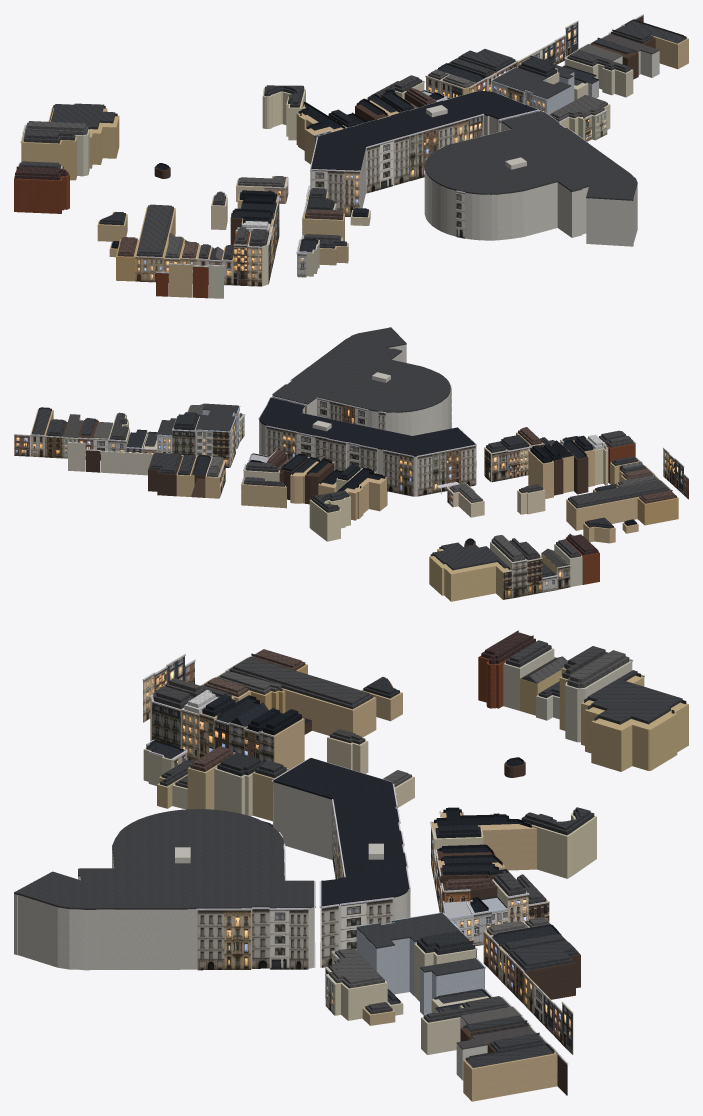
3 views of the same model, one above another, from view 1: azimuth 30°, elevation 25°; view 2: azimuth 150°, elevation 25°; view 3: azimuth 270°, elevation 25° (orthographic). The views are drawn at different scales.
Parts seen in each view (by area): view 1: bldg_503715125_roof, bldg_503715125, bldg_1000503715125_roof, bldg_1000503715125_facade13, bldg_501575301, bldg_1000503715125_facade10, bldg_501575305, bldg_503715134, bldg_1000503715125_facade12, bldg_501575307, bldg_503729218_roof, bldg_503729223 (+25 smaller); view 2: bldg_503715125_roof, bldg_1000503715125_roof, bldg_501575307, bldg_1000503715125_facade9, bldg_503715125, bldg_503750553, bldg_503715134, bldg_501575307_roof_b, bldg_1000503715125_facade8, bldg_503715133, bldg_503713430_facade0, bldg_503750553_roof_b (+30 smaller); view 3: bldg_503715125_roof, bldg_503715125, bldg_1000503715125_roof, bldg_501575307, bldg_1000503715125, bldg_503715125_facade8, bldg_503729228, bldg_501575307_roof_b, bldg_503715134, bldg_503750553, bldg_503715125_facade10, bldg_503729218 (+30 smaller).
Part boxes in pixels (<box>): bldg_503715125_roof: <box>425,111,637,200</box>; bldg_503715125: <box>424,122,637,246</box>; bldg_1000503715125_roof: <box>311,91,537,170</box>; bldg_1000503715125_facade13: <box>392,113,484,185</box>; bldg_501575301: <box>14,170,69,213</box>; bldg_1000503715125_facade10: <box>310,169,360,216</box>; bldg_501575305: <box>22,135,76,180</box>; bldg_503715134: <box>262,88,305,140</box>; bldg_1000503715125_facade12: <box>366,139,393,193</box>; bldg_501575307: <box>48,107,119,168</box>; bldg_503729218_roof: <box>492,67,571,99</box>; bldg_503729223: <box>565,58,633,97</box>; bldg_503715125_roof: <box>273,327,450,412</box>; bldg_1000503715125_roof: <box>259,397,475,456</box>; bldg_501575307: <box>429,549,510,601</box>; bldg_1000503715125_facade9: <box>416,444,476,496</box>; bldg_503715125: <box>306,344,450,435</box>; bldg_503750553: <box>566,496,640,530</box>; bldg_503715134: <box>309,496,350,541</box>; bldg_501575307_roof_b: <box>432,542,507,570</box>; bldg_1000503715125_facade8: <box>382,449,413,496</box>; bldg_503715133: <box>344,473,386,520</box>; bldg_503713430_facade0: <box>100,450,152,475</box>; bldg_503750553_roof_b: <box>570,480,667,505</box>; bldg_503715125_roof: <box>14,809,314,909</box>; bldg_503715125: <box>14,847,314,970</box>; bldg_1000503715125_roof: <box>273,758,409,906</box>; bldg_501575307: <box>581,675,688,771</box>; bldg_1000503715125: <box>273,782,409,967</box>; bldg_503715125_facade8: <box>196,908,251,970</box>; bldg_503729228: <box>463,1051,556,1101</box>; bldg_501575307_roof_b: <box>587,670,682,724</box>; bldg_503715134: <box>529,813,596,878</box>; bldg_503750553: <box>229,670,376,737</box>; bldg_503715125_facade10: <box>269,908,308,969</box>; bldg_503729218: <box>356,928,416,995</box>.
Bounding box in the file's own units: 271 × 20.2 × 183.
82 materials, 40 textured.
